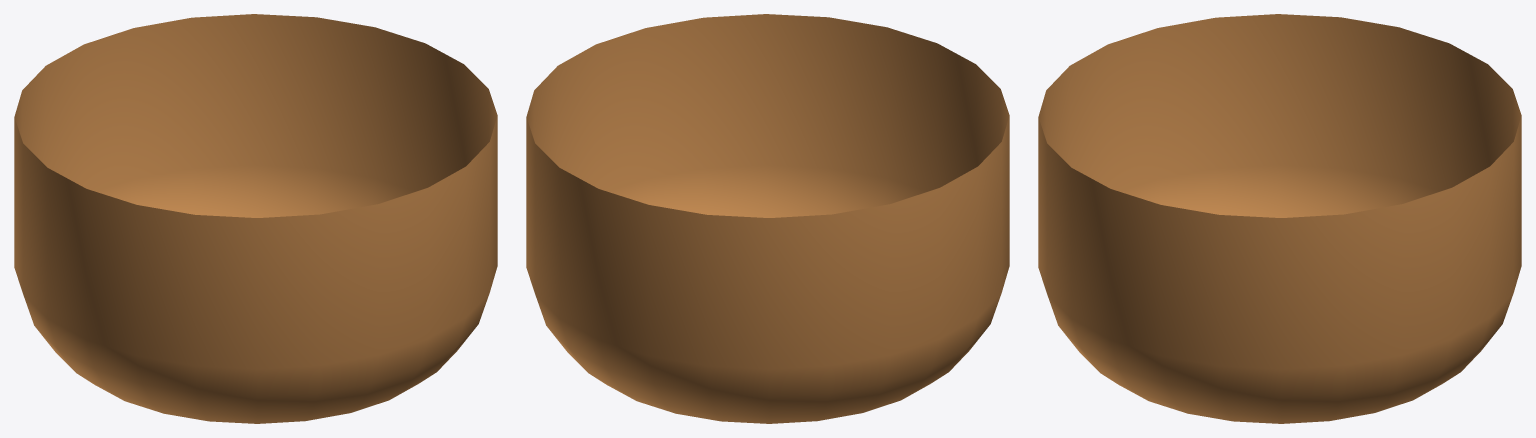
Rendered from original-3.obj.
The picture shows the model from 3 angles, left to right: view 1: azimuth 30°, elevation 25°; view 2: azimuth 150°, elevation 25°; view 3: azimuth 270°, elevation 25°; orthographic projection.
Visible parts, largest first — view 1: mesh2/mesh2-geometry#mesh2-geometry; view 2: mesh2/mesh2-geometry#mesh2-geometry; view 3: mesh2/mesh2-geometry#mesh2-geometry.
Boxes of the visible parts, box(x1,y1,x2,y2) form: mesh2/mesh2-geometry#mesh2-geometry: box(14, 14, 497, 423); mesh2/mesh2-geometry#mesh2-geometry: box(526, 14, 1009, 423); mesh2/mesh2-geometry#mesh2-geometry: box(1038, 14, 1521, 423).
Size of the model in its own units: 1.5 by 0.783 by 1.5.
